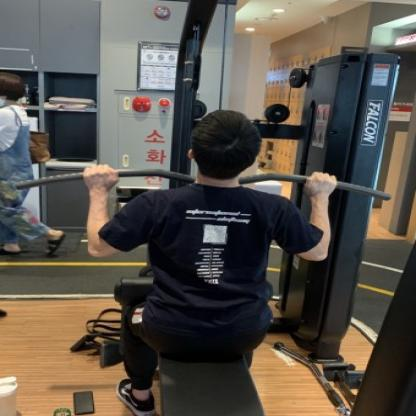Lat Pull Down: (12, 0, 407, 416)
